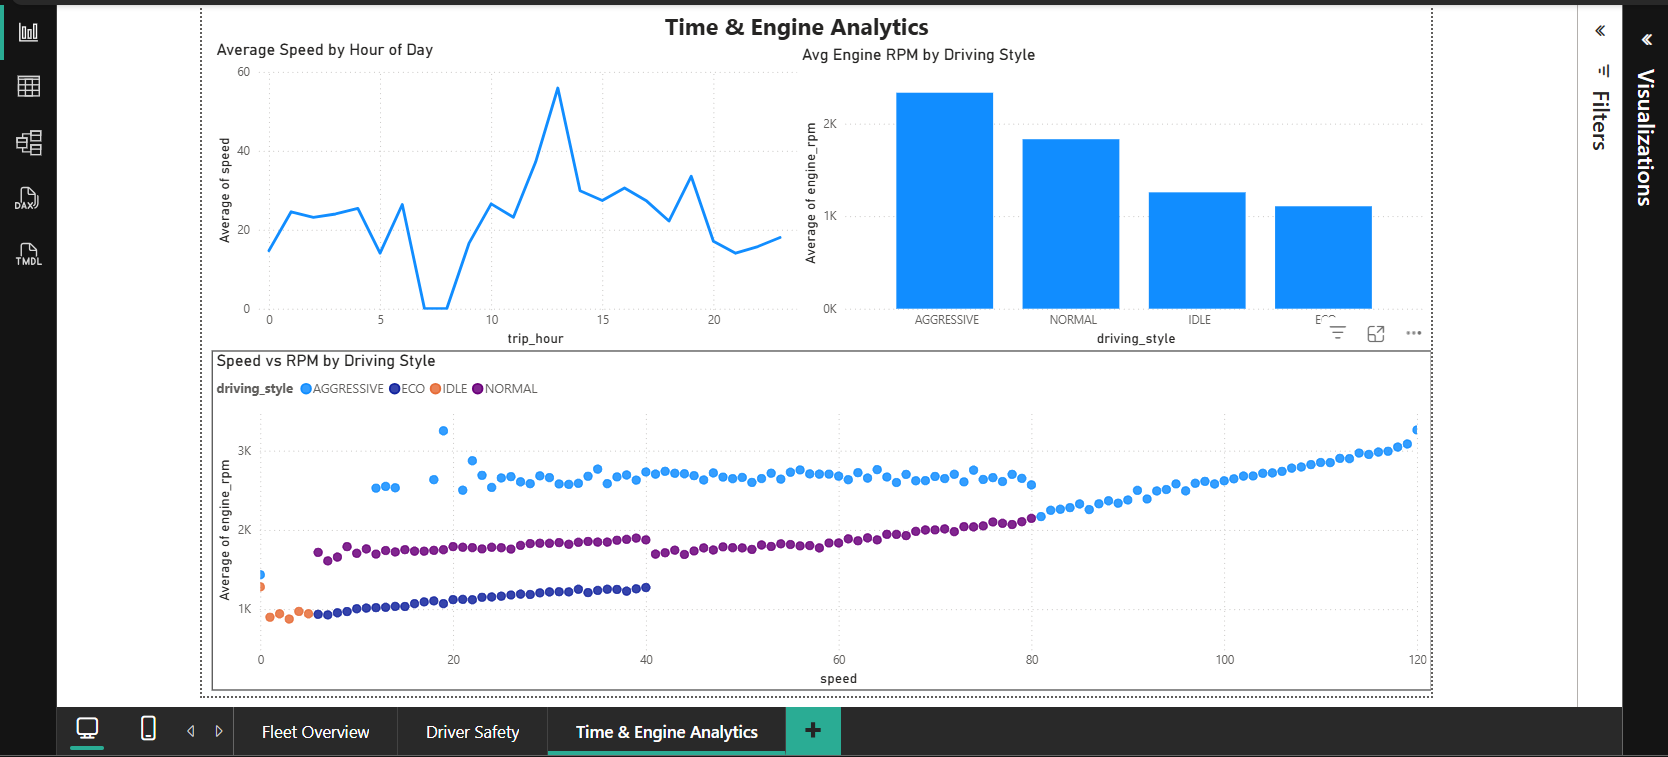

The dashboard page shown, as its layout file describes it:
{"tool":"powerbi","page":{"name":"Time & Engine Analytics","canvas":[1280,720],"ordinal":2},"visuals":[{"type":"lineChart","title":"Average Speed by Hour of Day","fields":{"Category":["obd_driver_db obd_readings.trip_hour"],"Y":["Avg(obd_driver_db obd_readings.speed)"]},"box":[10.1,36.1,630.2,323.8],"z":0},{"type":"clusteredColumnChart","title":"Avg Engine RPM by Driving Style","fields":{"Category":["obd_driver_db obd_readings.driving_style"],"Y":["Avg(obd_driver_db obd_readings.engine_rpm)"]},"box":[620,41.9,660.5,318],"z":1000},{"type":"scatterChart","title":"Speed vs RPM by Driving Style","fields":{"X":["obd_driver_db obd_readings.speed"],"Y":["Avg(obd_driver_db obd_readings.engine_rpm)"],"Series":["obd_driver_db obd_readings.driving_style"]},"box":[10.1,359.9,1270.4,354.1],"z":2000},{"type":"textbox","box":[477,0,287.6,41.9],"z":3000}]}

Visuals, with their boxes on the page's 1280x720 design canvas (x1, y1, x2, y2). These are canvas units, not pixel positions in the 1668x757 screenshot, which may show the page scaled, cropped or inside an application window:
"Average Speed by Hour of Day" lineChart: Rect(10, 36, 640, 360)
"Avg Engine RPM by Driving Style" clusteredColumnChart: Rect(620, 42, 1280, 360)
"Speed vs RPM by Driving Style" scatterChart: Rect(10, 360, 1280, 714)
textbox: Rect(477, 0, 765, 42)
